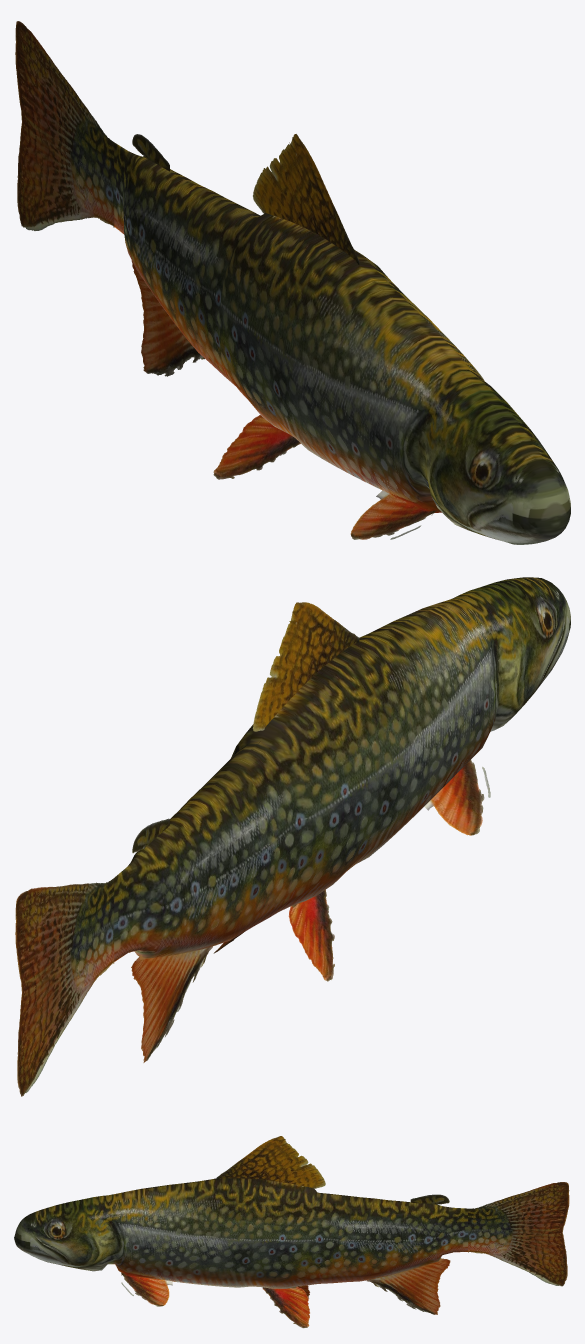
The model's file is trout_brook.glb.
3 views of the same model, one above another, from view 1: azimuth 30°, elevation 25°; view 2: azimuth 150°, elevation 25°; view 3: azimuth 270°, elevation 25° (orthographic). The views are drawn at different scales.
Visible parts, largest first — view 1: Trout_Brook; view 2: Trout_Brook; view 3: Trout_Brook.
Part boxes in pixels (left/top/right/bottom): Trout_Brook: left=15, top=21, right=570, bottom=544; Trout_Brook: left=15, top=577, right=570, bottom=1096; Trout_Brook: left=14, top=1136, right=569, bottom=1328.
Bounding box in the file's own units: 0.0423 × 0.108 × 0.2997.
2 materials, 2 textured.
